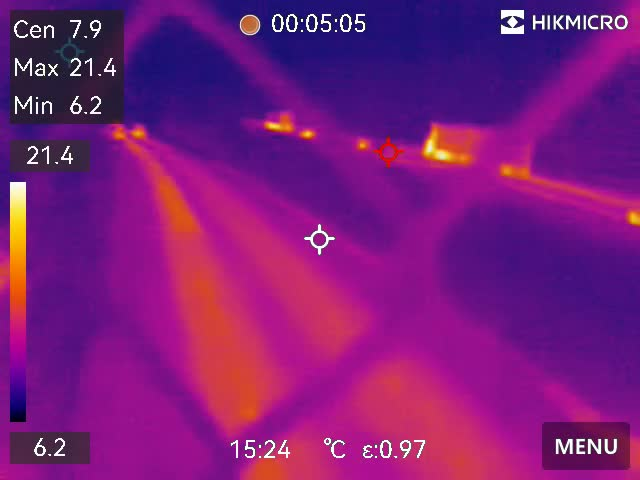heavyTruck: (418, 115, 549, 189)
